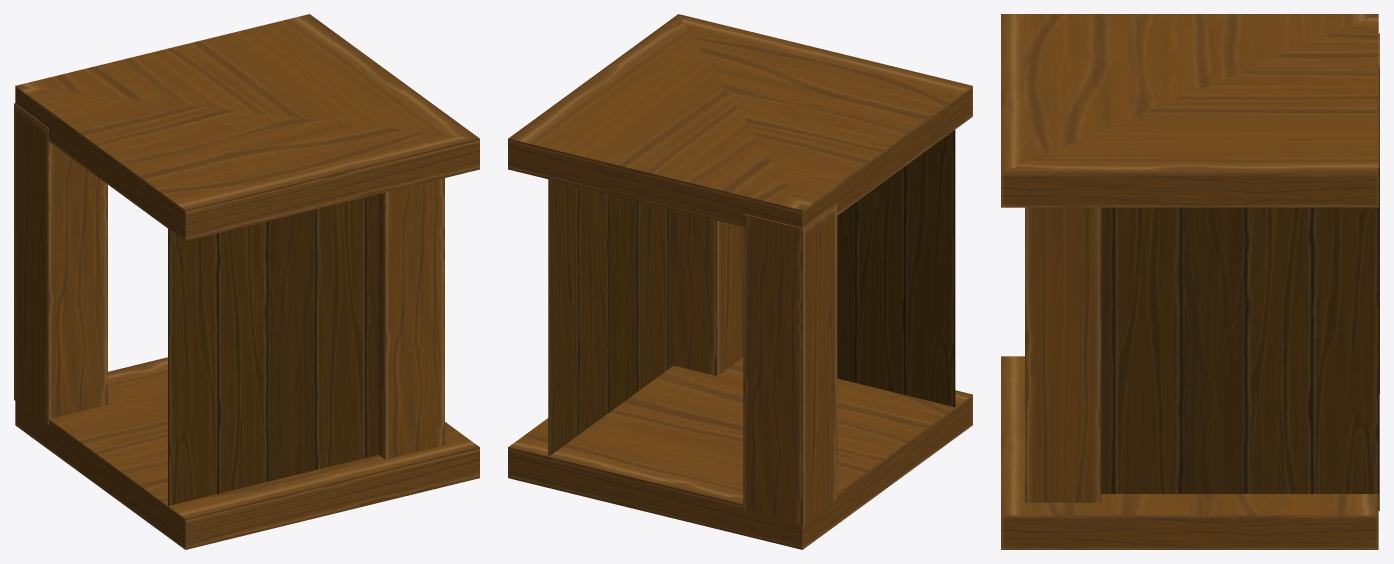
Rendered from SM_Bar_Corner.fbx.
3 views of the same model, side by side, from view 1: azimuth 30°, elevation 25°; view 2: azimuth 150°, elevation 25°; view 3: azimuth 270°, elevation 25° (orthographic). The views are drawn at different scales.
Visible parts, largest first — view 1: SM_Bar_Corner_LOD0; view 2: SM_Bar_Corner_LOD0; view 3: SM_Bar_Corner_LOD0.
Part boxes in pixels (<box>): SM_Bar_Corner_LOD0: <box>14,14,479,549</box>; SM_Bar_Corner_LOD0: <box>508,14,972,549</box>; SM_Bar_Corner_LOD0: <box>1001,14,1379,549</box>.
Size of the model in its own units: 100 by 100 by 110.
